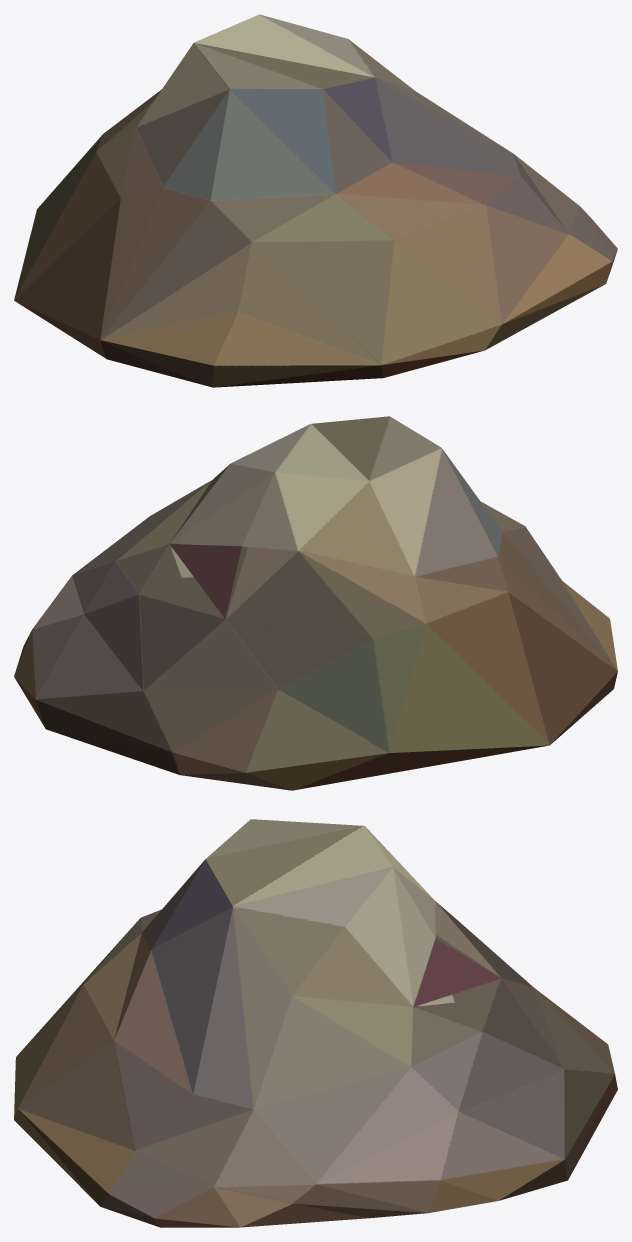
Rendered from mud.fbx.
3 renders of one model, top to bottom at view 1: azimuth 30°, elevation 25°; view 2: azimuth 150°, elevation 25°; view 3: azimuth 270°, elevation 25°, orthographic. The views are drawn at different scales.
Parts seen in each view (by area): view 1: Mesh_0; view 2: Mesh_0; view 3: Mesh_0.
Part boxes in pixels (x1=…): Mesh_0: x1=14, y1=14, x2=617, y2=387; Mesh_0: x1=14, y1=416, x2=617, y2=790; Mesh_0: x1=14, y1=819, x2=617, y2=1227.
Size of the model in its own units: 119 by 54.38 by 113.
1 material, 1 textured.
